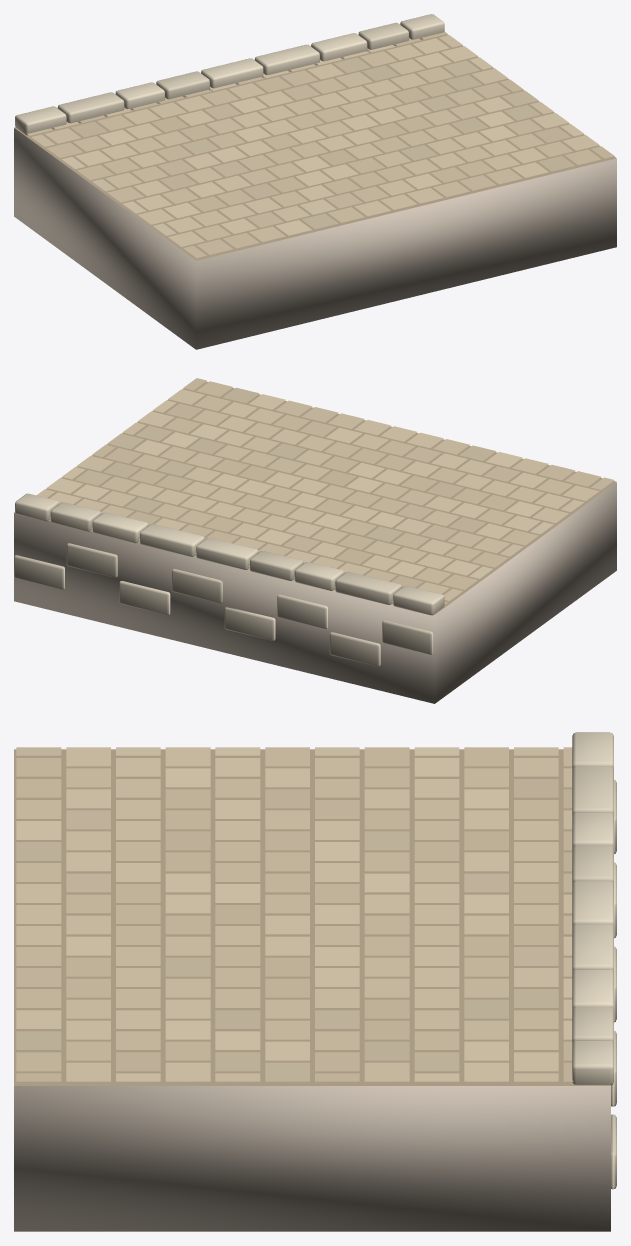
File: quay_block.glb
3 renders of one model, top to bottom at view 1: azimuth 30°, elevation 25°; view 2: azimuth 150°, elevation 25°; view 3: azimuth 270°, elevation 25°, orthographic. The views are drawn at different scales.
Parts seen in each view (by area): view 1: Quay_Block_Top, Quay_Block_Body, Quay_Block_Coping; view 2: Quay_Block_Top, Quay_Block_Body, Quay_Block_Coping; view 3: Quay_Block_Top, Quay_Block_Body, Quay_Block_Coping.
Part boxes in pixels (x1,y1,x2,y2): Quay_Block_Top: (14, 32, 616, 260); Quay_Block_Body: (14, 128, 616, 349); Quay_Block_Coping: (15, 14, 444, 135); Quay_Block_Top: (14, 378, 616, 614); Quay_Block_Body: (14, 482, 616, 703); Quay_Block_Coping: (14, 493, 444, 666); Quay_Block_Top: (14, 747, 610, 1085); Quay_Block_Body: (14, 1086, 610, 1231); Quay_Block_Coping: (572, 732, 616, 1189).
Bounding box in the file's own units: 8 × 1.83 × 6.06.
